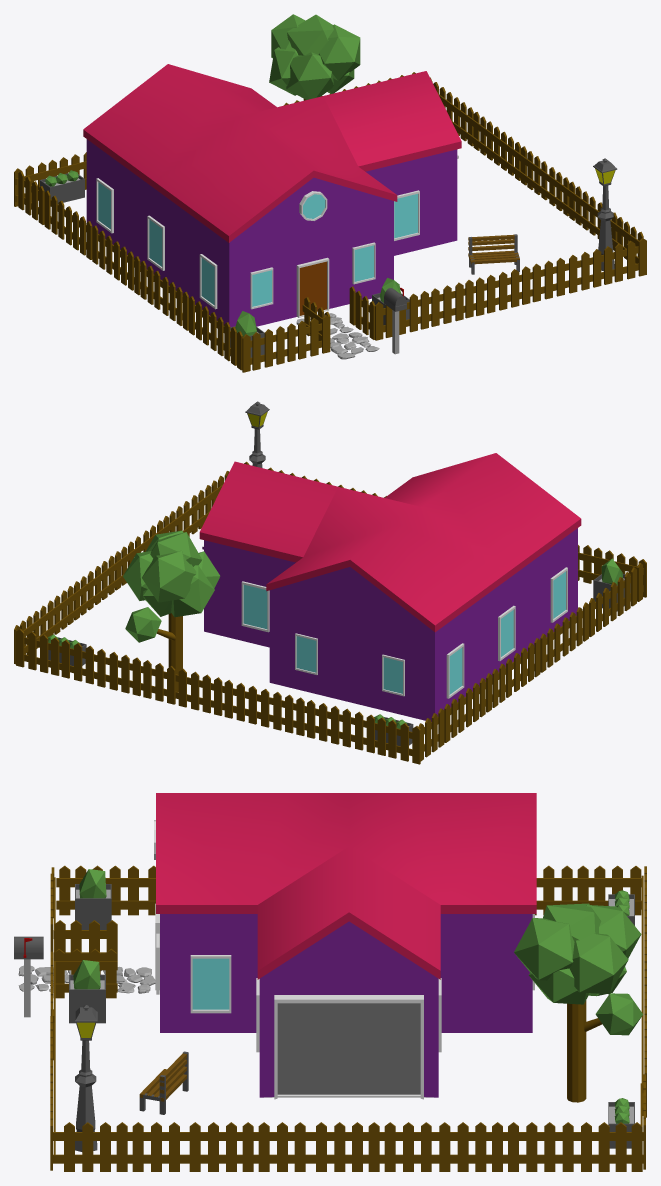
The picture shows the model from 3 angles, top to bottom: view 1: azimuth 30°, elevation 25°; view 2: azimuth 150°, elevation 25°; view 3: azimuth 270°, elevation 25°; orthographic projection. The views are drawn at different scales.
Parts seen in each view (by area): view 1: ee12; view 2: ee12; view 3: ee12.
Boxes of the visible parts, <box> form: ee12: <box>14,14,646,372</box>; ee12: <box>14,401,646,764</box>; ee12: <box>14,793,646,1171</box>.
Bounding box in the file's own units: 25.08 × 9.22 × 25.9.
